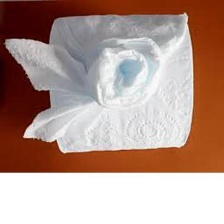tissue: (0, 6, 201, 157)
